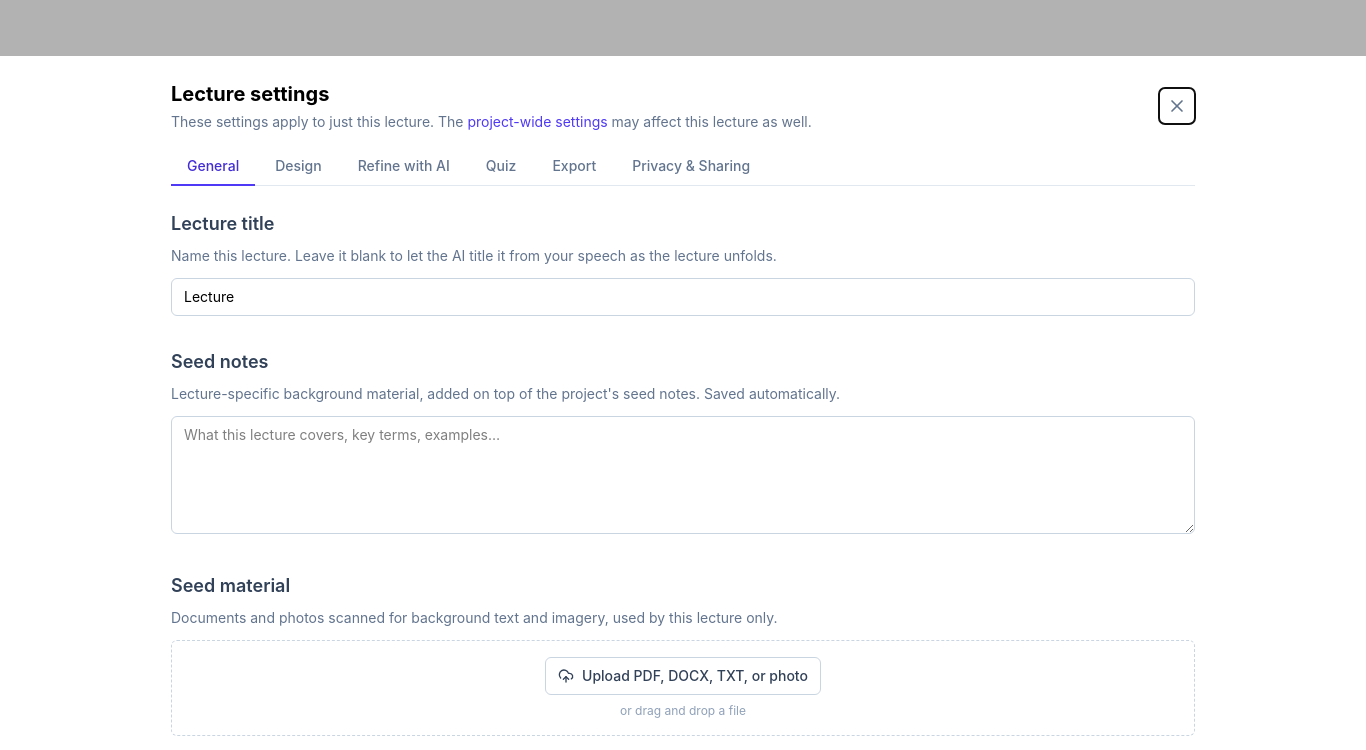
Test: DeckSettingsModal — Refine tab › disables the whole form when the lecture has no slides
The image size is (1366, 750).
Click the tab "Refine with AI". click: (404, 167)
box: 342,148 -> 466,186
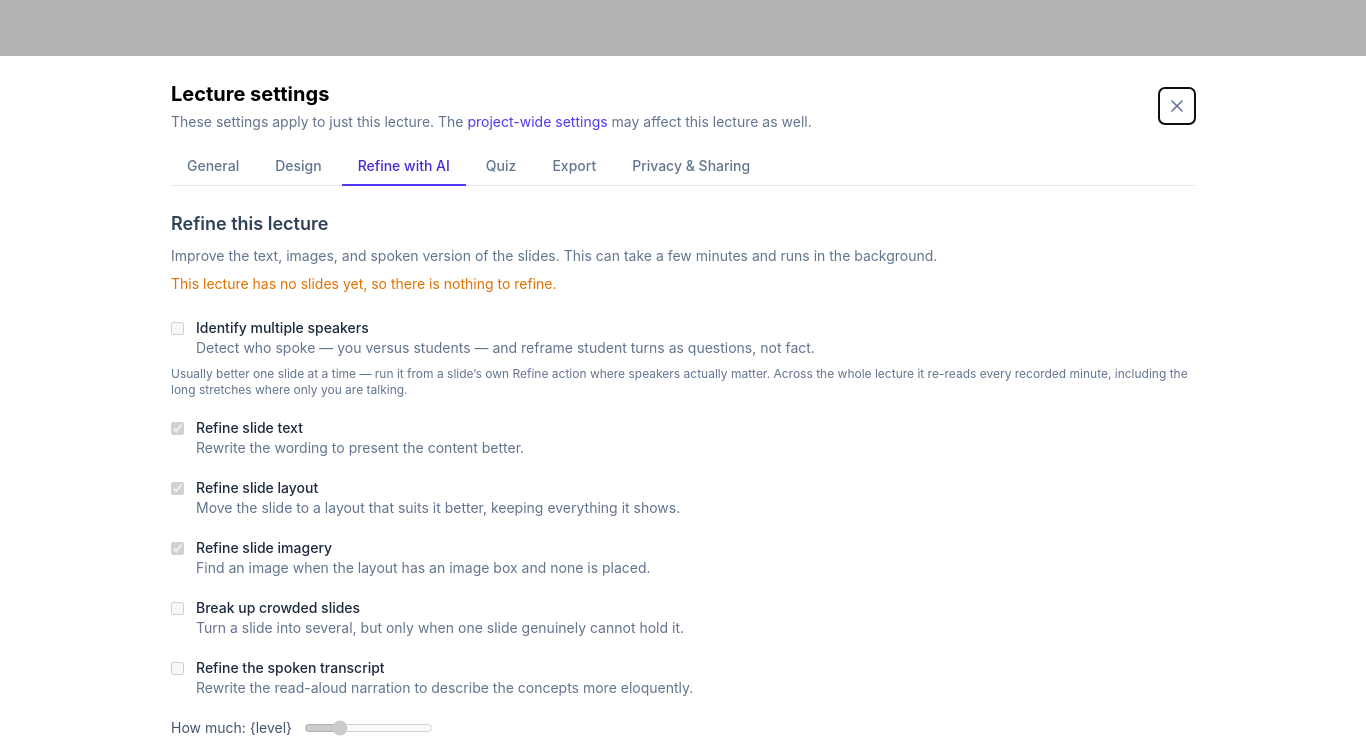
Expected: the checkbox labelled "Refine slide text" is disabled, 171,422 -> 184,435
Expected: the checkbox labelled "Refine the spoken transcript" is disabled, 171,662 -> 184,675
Expected: the text "nothing to refine" is shown, 171,275 -> 556,292
